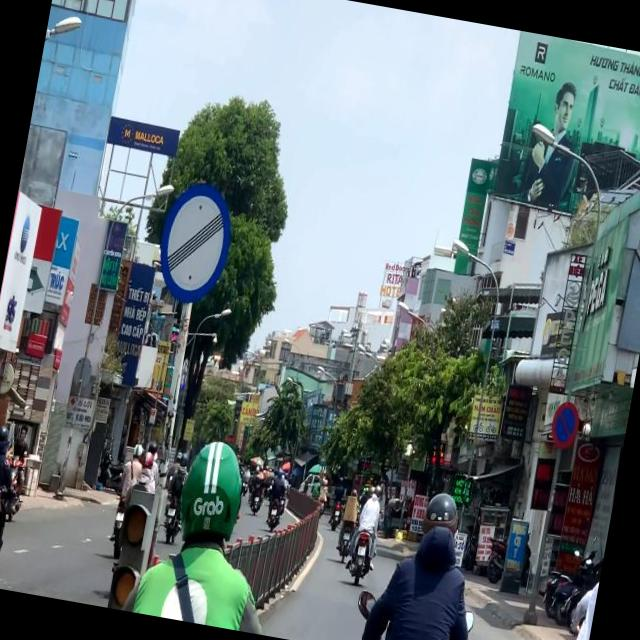DP-135: (151, 176, 237, 306)
P-131a: (546, 401, 582, 452)
